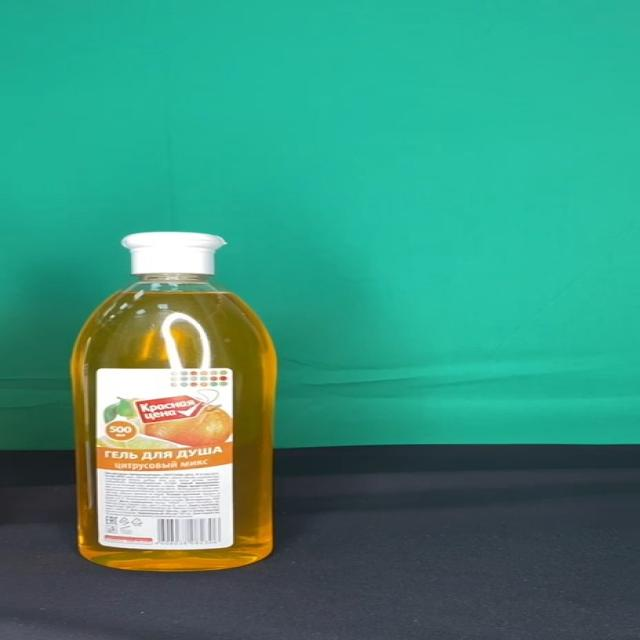Bottle: (69, 231, 276, 572)
Cap: (122, 233, 226, 275)
